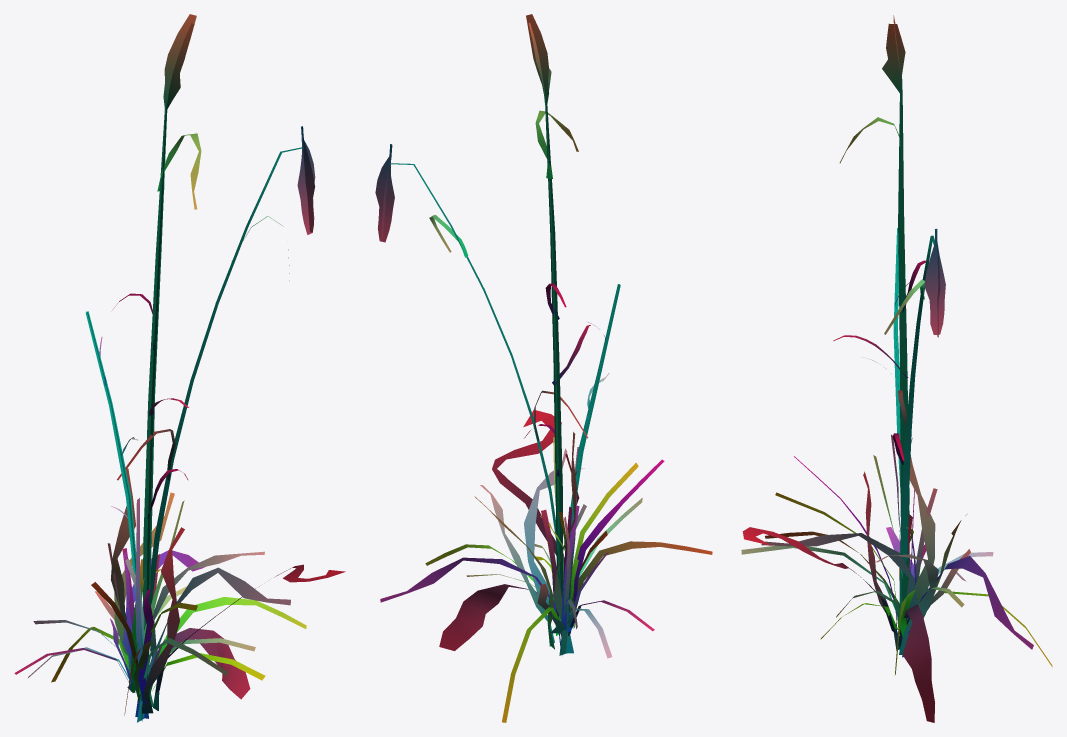
The model's file is Wheat_Grass_tdcrdbur_Mid_tdcrdbur_VarD_LOD0.fbx.
3 views of the same model, side by side, from view 1: azimuth 30°, elevation 25°; view 2: azimuth 150°, elevation 25°; view 3: azimuth 270°, elevation 25° (orthographic). The views are drawn at different scales.
Parts seen in each view (by area): view 1: _a00d_VarD_LOD1; view 2: _a00d_VarD_LOD1; view 3: _a00d_VarD_LOD1.
Boxes of the visible parts, x1,y1,x2,y2 form: _a00d_VarD_LOD1: [14, 14, 345, 722]; _a00d_VarD_LOD1: [375, 14, 712, 722]; _a00d_VarD_LOD1: [741, 15, 1052, 722].
Size of the model in its own units: 50.18 by 112 by 46.84.
